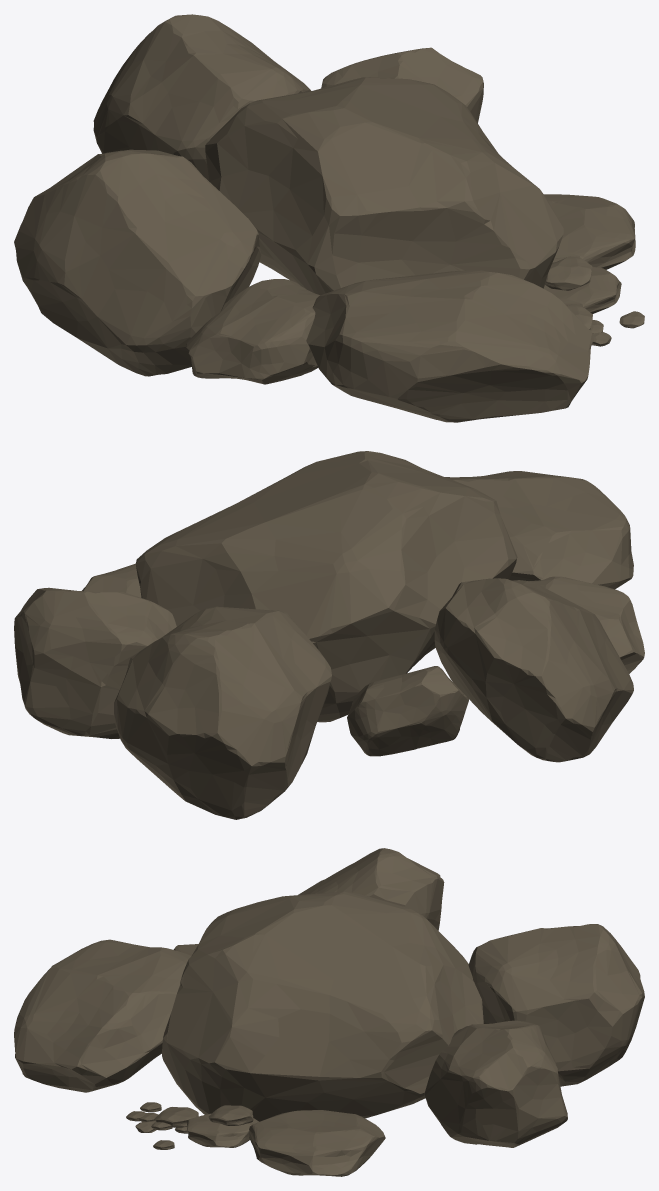
The model's file is rock_group.glb.
The picture shows the model from 3 angles, top to bottom: view 1: azimuth 30°, elevation 25°; view 2: azimuth 150°, elevation 25°; view 3: azimuth 270°, elevation 25°; orthographic projection. The views are drawn at different scales.
Parts seen in each view (by area): view 1: Cube, Cube.001, Cube.005, Cube.004, Cube.002, Cube.007, Cube.006, Cube.008, Cube.010; view 2: Cube, Cube.004, Cube.001, Cube.006, Cube.005, Cube.003, Cube.002, Cube.007; view 3: Cube, Cube.005, Cube.004, Cube.006, Cube.007, Cube.001, Cube.008, Cube.010, Cube.009.
Part boxes in pixels (bbox=[...]): Cube: bbox=[205, 77, 563, 295]; Cube.001: bbox=[14, 149, 261, 376]; Cube.005: bbox=[306, 270, 593, 422]; Cube.004: bbox=[93, 14, 310, 181]; Cube.002: bbox=[186, 279, 319, 384]; Cube.007: bbox=[544, 194, 635, 269]; Cube.006: bbox=[321, 47, 483, 123]; Cube.008: bbox=[544, 266, 621, 313]; Cube.010: bbox=[545, 256, 592, 290]; Cube: bbox=[135, 451, 517, 722]; Cube.004: bbox=[114, 606, 331, 819]; Cube.001: bbox=[434, 578, 633, 762]; Cube.006: bbox=[14, 587, 176, 738]; Cube.005: bbox=[445, 471, 633, 589]; Cube.003: bbox=[347, 666, 468, 756]; Cube.002: bbox=[529, 576, 644, 673]; Cube.007: bbox=[82, 563, 141, 597]; Cube: bbox=[162, 891, 483, 1121]; Cube.005: bbox=[14, 939, 191, 1092]; Cube.004: bbox=[468, 924, 644, 1086]; Cube.006: bbox=[424, 1020, 567, 1147]; Cube.007: bbox=[249, 1110, 385, 1176]; Cube.001: bbox=[298, 848, 444, 930]; Cube.008: bbox=[187, 1113, 258, 1147]; Cube.010: bbox=[208, 1105, 253, 1125]; Cube.009: bbox=[154, 1107, 198, 1127].
Size of the model in its own units: 7.16 by 2.54 by 8.33.
